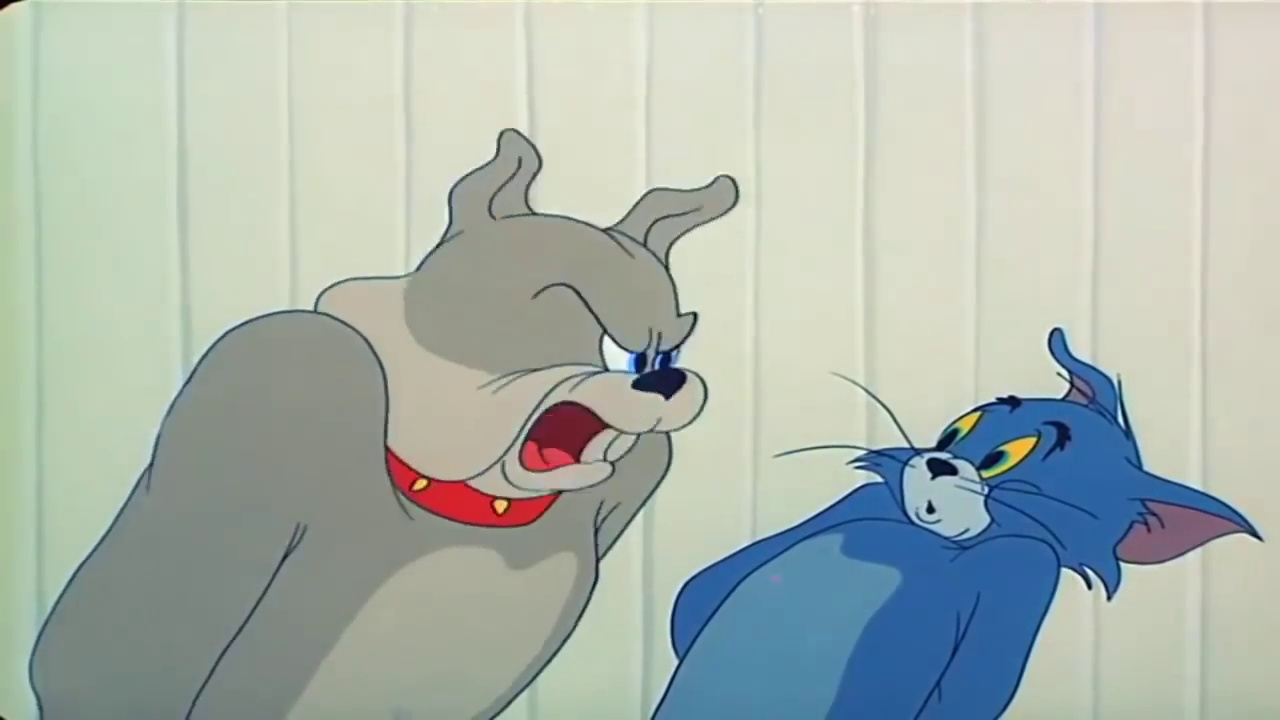spike: (304, 125, 741, 540)
tom: (848, 326, 1263, 597)
